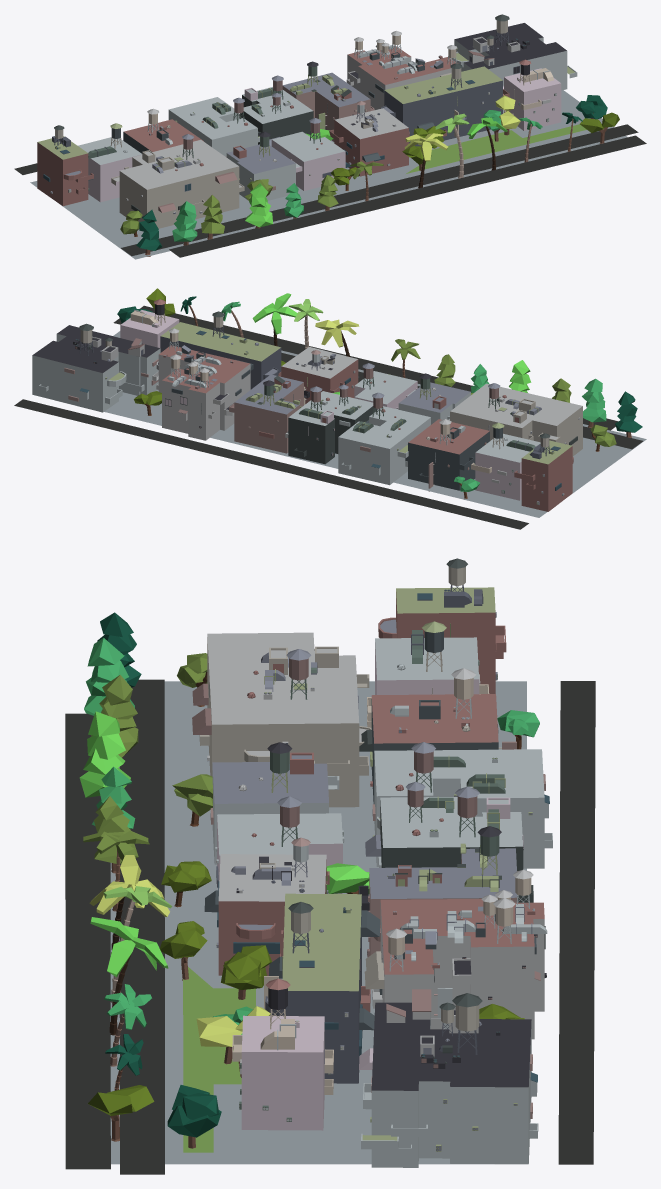
The model's file is SJ_Env6.fbx.
3 views of the same model, one above another, from view 1: azimuth 30°, elevation 25°; view 2: azimuth 150°, elevation 25°; view 3: azimuth 270°, elevation 25° (orthographic). The views are drawn at different scales.
Parts seen in each view (by area): view 1: SJ_Env6; view 2: SJ_Env6; view 3: SJ_Env6.
Boxes of the visible parts, x1,y1,x2,y2 form: SJ_Env6: (14,14,646,259); SJ_Env6: (14,288,646,529); SJ_Env6: (65,558,595,1174).
Bounding box in the file's own units: 8222 × 1184 × 3713.
